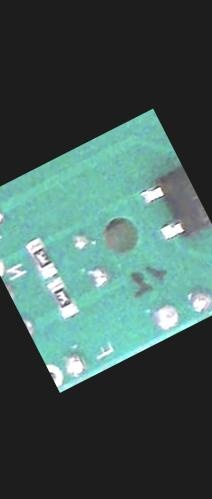chip-resistor: (41, 273, 82, 323), (21, 234, 60, 280)
ic: (130, 161, 212, 252)
